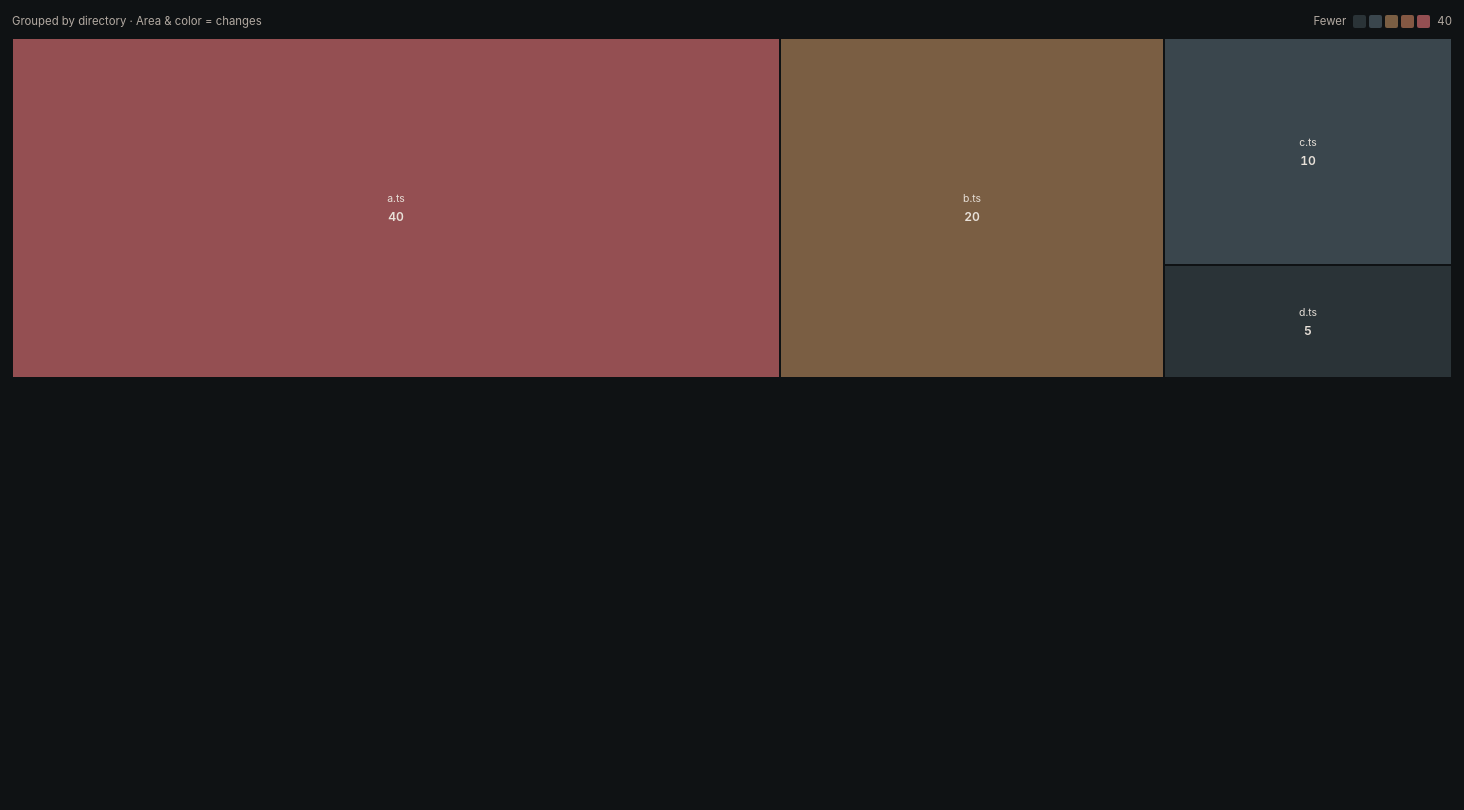
Test: change hotspot heatmap › supports spatial keyboard navigation, focus tooltips and Escape dismissal
Hover over the button with class "analytics-heatmap-cell" showing "b.ts 20" at (972, 208), box [781, 39, 1163, 377]
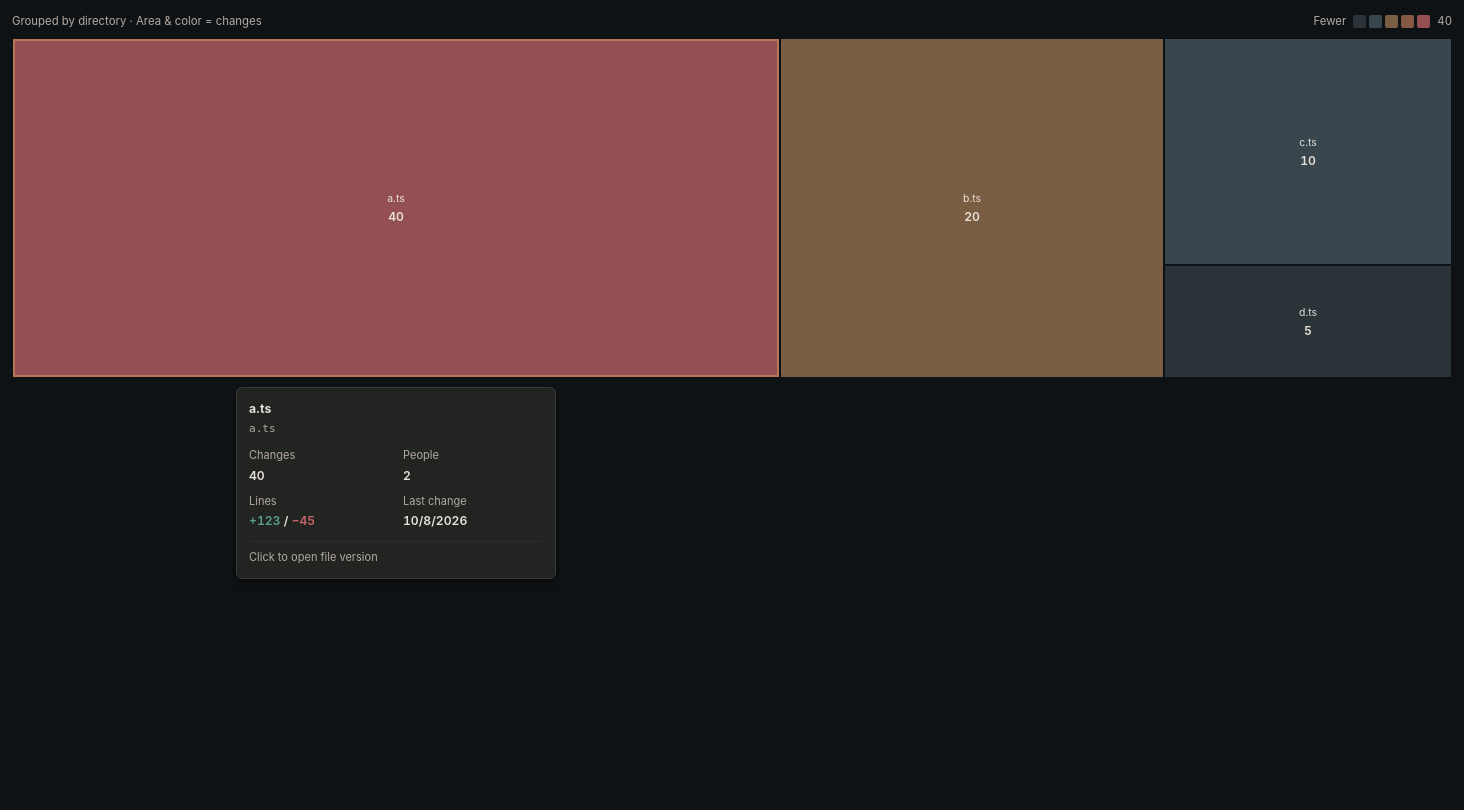
Expected: the tooltip shows "a.ts", [249, 401, 271, 416]
Press ArrowRight in the button with class "analytics-heatmap-cell" showing "a.ts 40", box [13, 39, 779, 377]
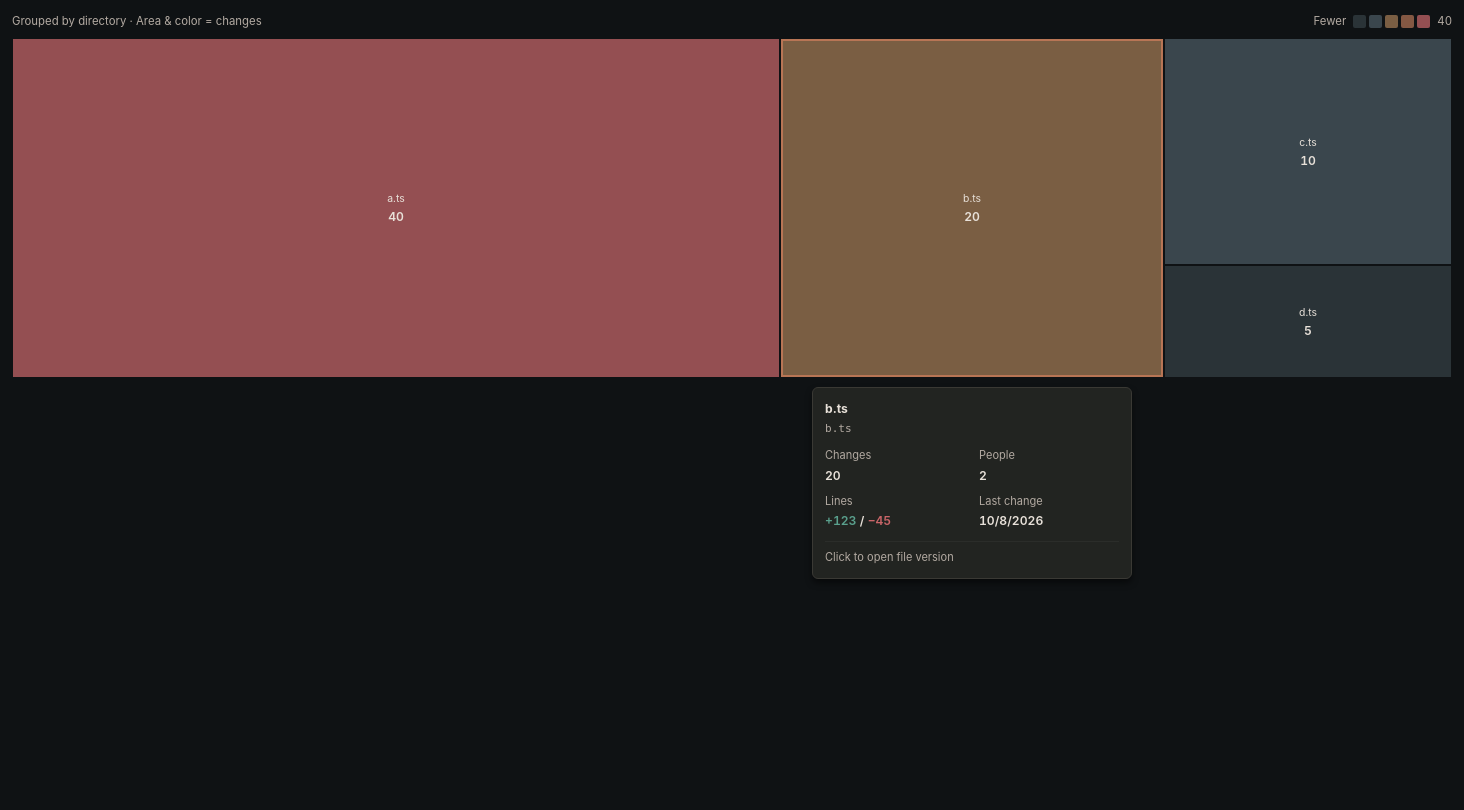
Expected: the tooltip shows "b.ts", [825, 401, 848, 416]
Press ArrowDown in the button with class "analytics-heatmap-cell" showing "b.ts 20", box [781, 39, 1163, 377]
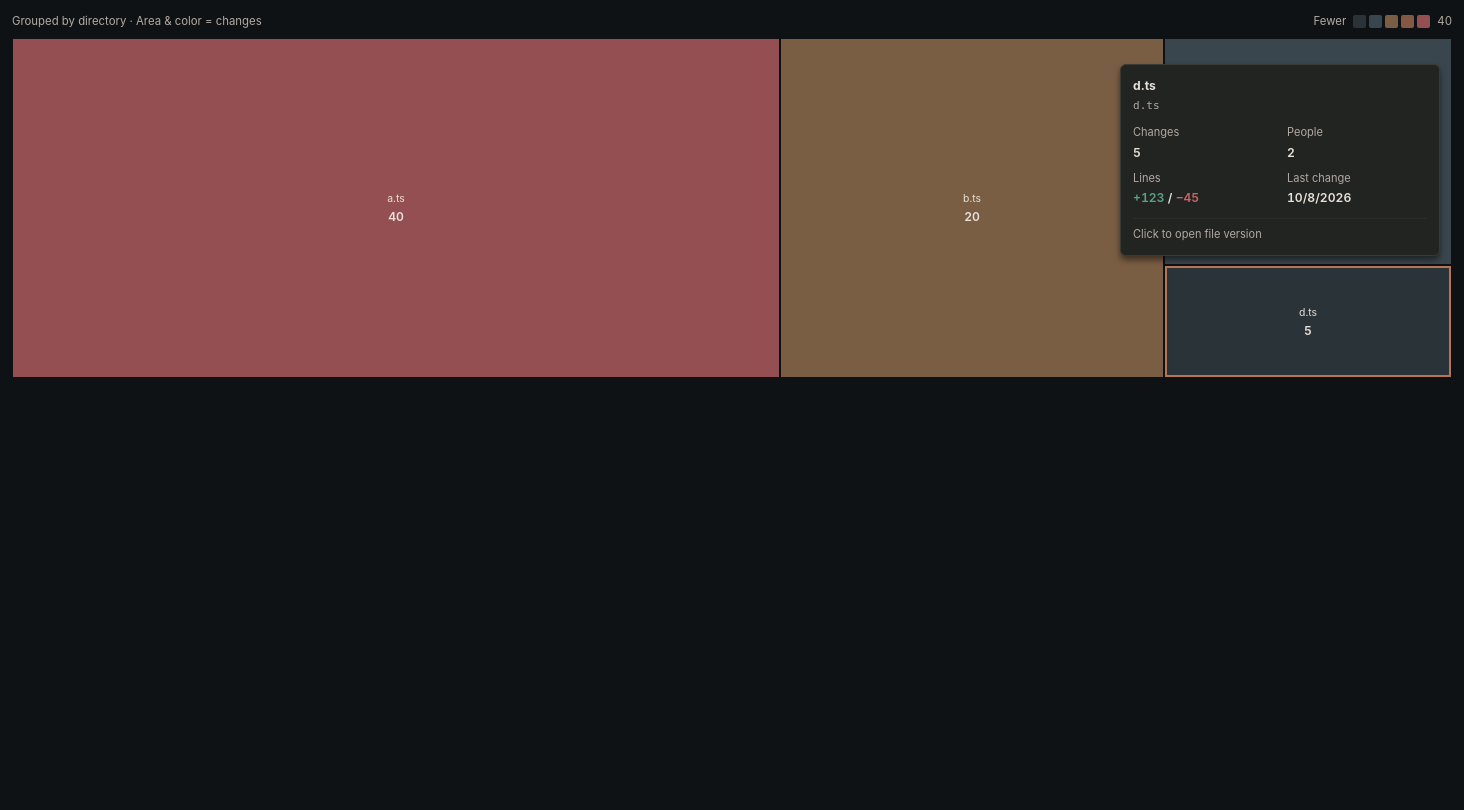
Press Home in the button with class "analytics-heatmap-cell" showing "d.ts 5", box [1165, 266, 1451, 377]
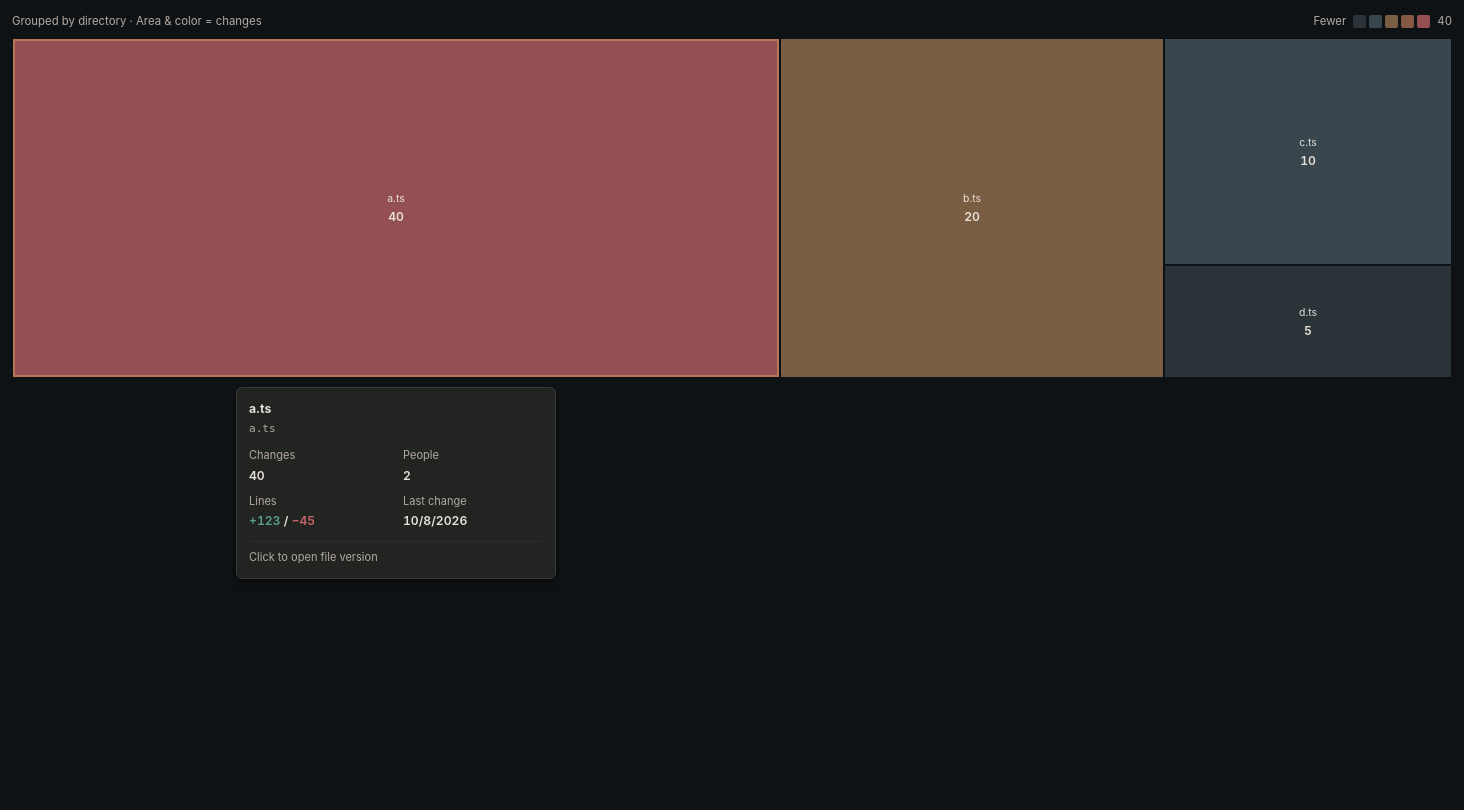
Press Escape in the button with class "analytics-heatmap-cell" showing "a.ts 40", box [13, 39, 779, 377]
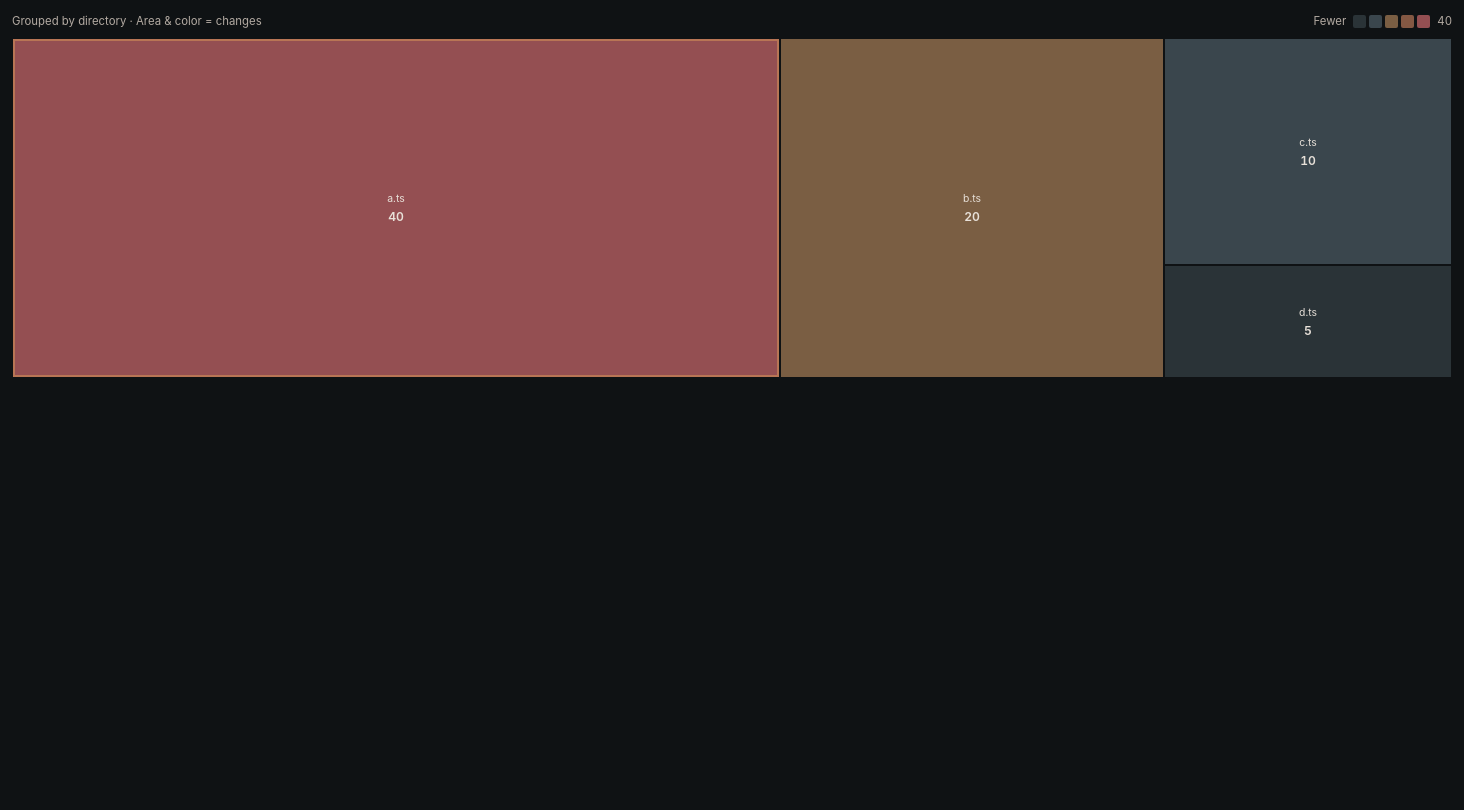
Expected: the tooltip is gone
Press End in the button with class "analytics-heatmap-cell" showing "a.ts 40", box [13, 39, 779, 377]
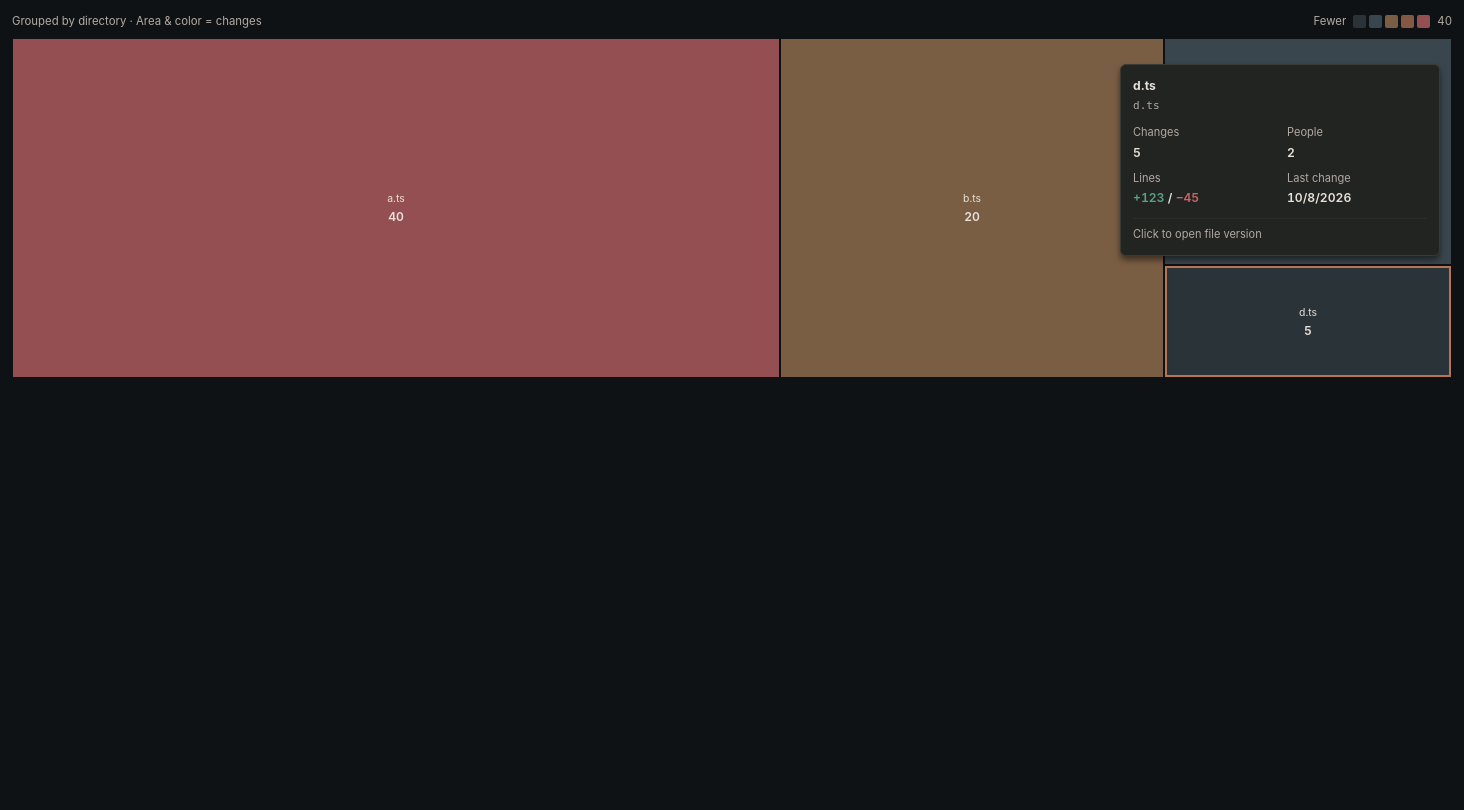
Expected: the tooltip shows "d.ts", [1133, 78, 1156, 93]
